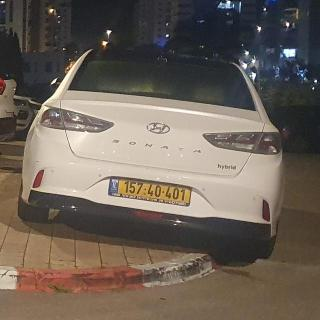LicensePlate: (118, 178, 191, 203)
